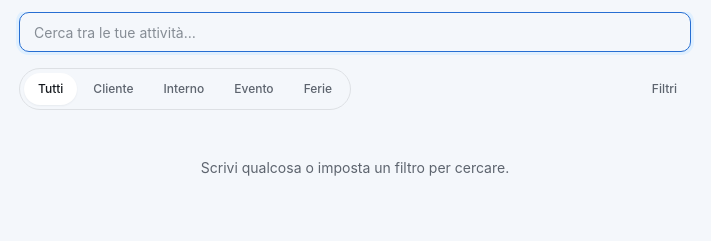
SearchView › nessun risultato → messaggio dedicato
The width and height of the screenshot is (711, 241).
In the search field labelled "Cerca": [355, 32] box [19,12,691,52], type "zzz"
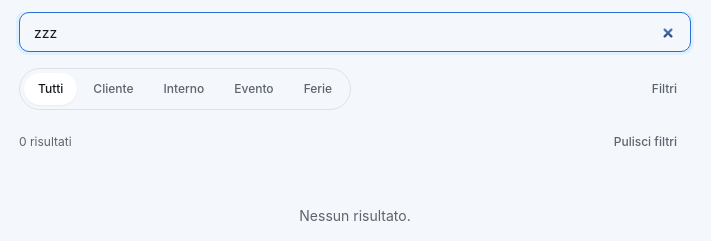
Now the text "Nessun risultato." is shown, box [299,207,411,224]
